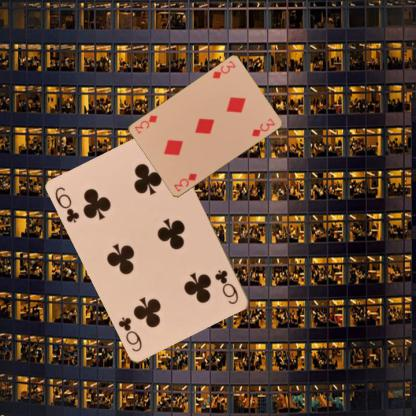3d: (171, 170, 198, 193), (210, 58, 236, 80)
6c: (52, 184, 81, 225), (212, 267, 240, 306)
